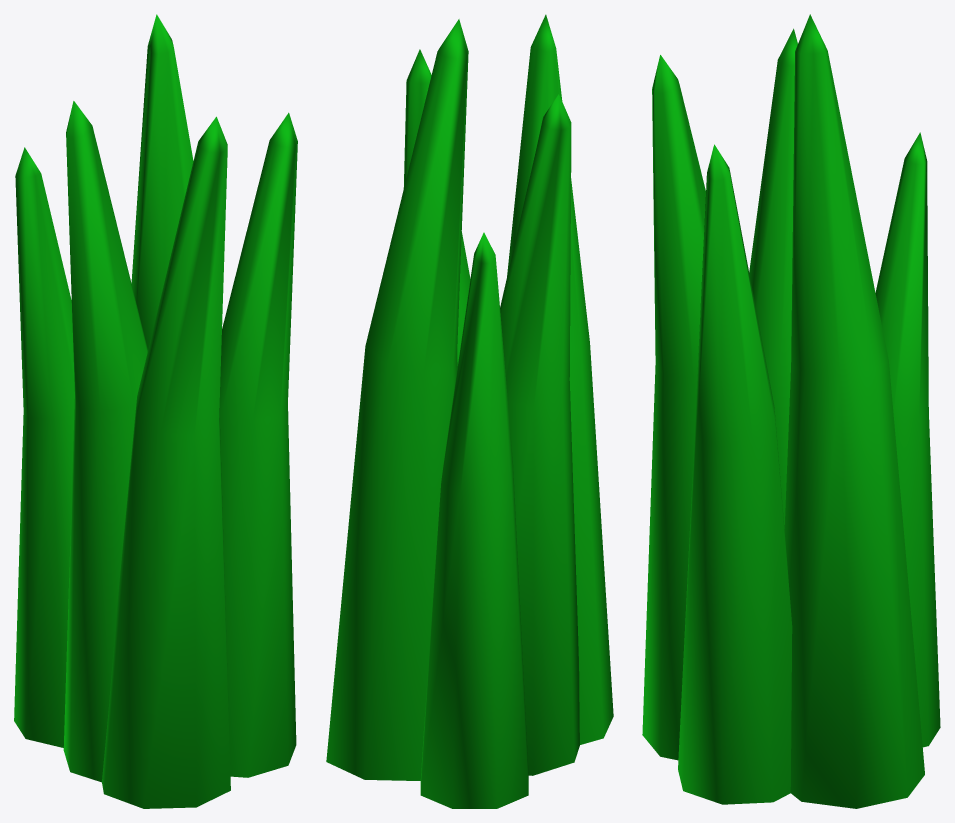
Rendered from GrassTile_Small.fbx.
3 renders of one model, left to right at view 1: azimuth 30°, elevation 25°; view 2: azimuth 150°, elevation 25°; view 3: azimuth 270°, elevation 25°, orthographic. The views are drawn at different scales.
Parts seen in each view (by area): view 1: GrassTile_Small; view 2: GrassTile_Small; view 3: GrassTile_Small.
Part boxes in pixels (box(x1,y1,x2,y2)): GrassTile_Small: box(14, 14, 297, 808); GrassTile_Small: box(326, 14, 613, 808); GrassTile_Small: box(642, 14, 940, 808).
Size of the model in its own units: 1.04 by 1.26 by 3.47.
